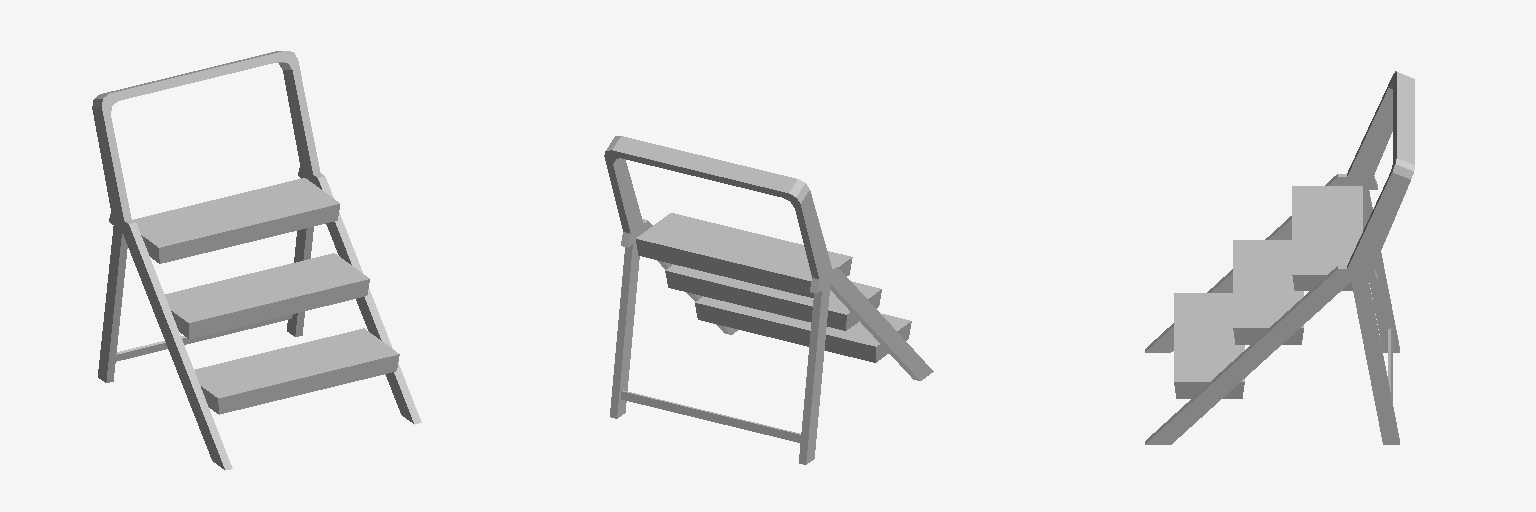
File: Ladder.obj
3 renders of one model, left to right at view 1: azimuth 30°, elevation 25°; view 2: azimuth 150°, elevation 25°; view 3: azimuth 270°, elevation 25°, orthographic.
Parts seen in each view (by area): view 1: Ladder; view 2: Ladder; view 3: Ladder.
Part boxes in pixels (bbox=[...]): Ladder: bbox=[92, 51, 421, 470]; Ladder: bbox=[604, 136, 933, 464]; Ladder: bbox=[1145, 71, 1414, 444].
Bounding box in the file's own units: 0.692 × 0.9478 × 0.8233.